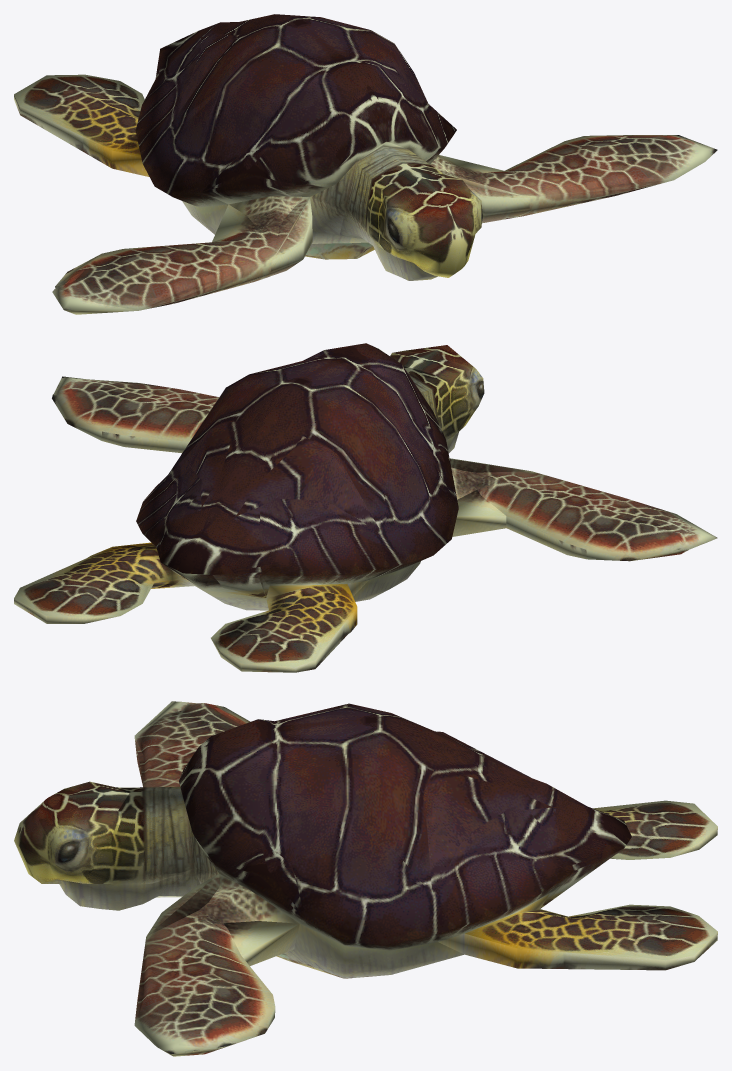
The model's file is female.obj.
3 renders of one model, top to bottom at view 1: azimuth 30°, elevation 25°; view 2: azimuth 150°, elevation 25°; view 3: azimuth 270°, elevation 25°, orthographic. The views are drawn at different scales.
Visible parts, largest first — view 1: Editable_Poly.000_Editable_Poly.007, Editable_Poly.001_Editable_Poly.008, Editable_Poly.006; view 2: Editable_Poly.000_Editable_Poly.007, Editable_Poly.001_Editable_Poly.008, Editable_Poly.006; view 3: Editable_Poly.000_Editable_Poly.007, Editable_Poly.001_Editable_Poly.008, Editable_Poly.006.
Boxes of the visible parts, left/top/right/bottom form: Editable_Poly.000_Editable_Poly.007: left=14, top=14, right=717, bottom=310; Editable_Poly.001_Editable_Poly.008: left=14, top=14, right=701, bottom=314; Editable_Poly.006: left=61, top=32, right=671, bottom=309; Editable_Poly.000_Editable_Poly.007: left=14, top=343, right=694, bottom=671; Editable_Poly.001_Editable_Poly.008: left=14, top=345, right=717, bottom=672; Editable_Poly.006: left=61, top=366, right=530, bottom=637; Editable_Poly.000_Editable_Poly.007: left=19, top=703, right=717, bottom=1056; Editable_Poly.001_Editable_Poly.008: left=14, top=701, right=717, bottom=1051; Editable_Poly.006: left=42, top=731, right=623, bottom=1024.
Size of the model in its own units: 1.72 by 0.5094 by 1.45.
Materials: 3 (3 with a texture image).
